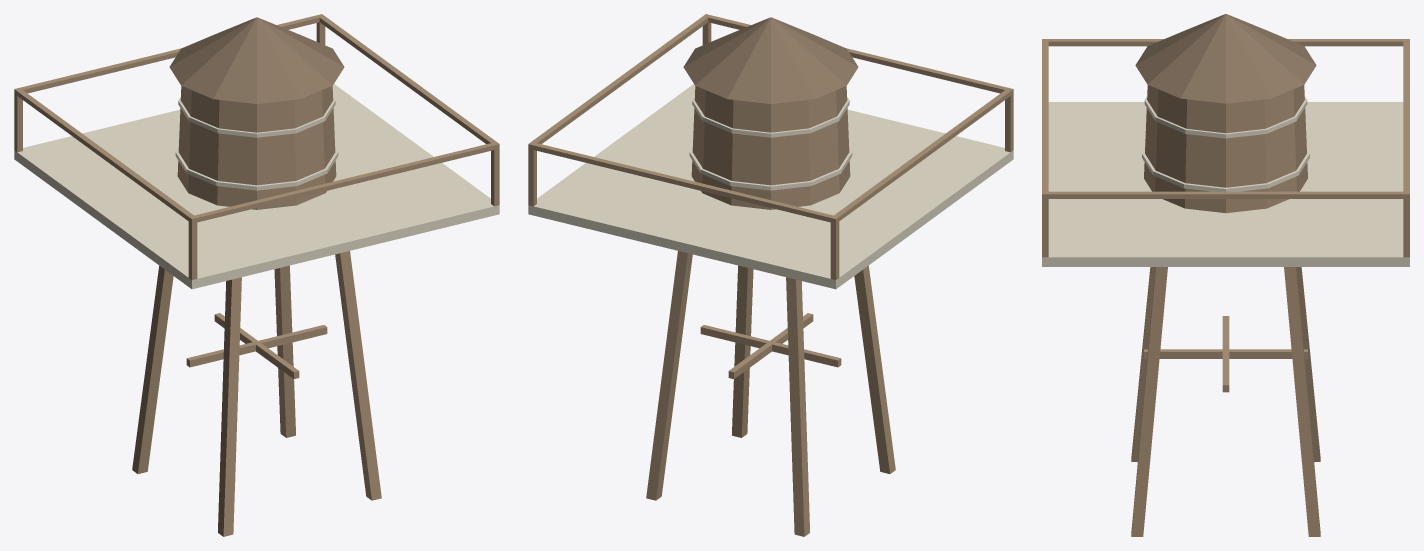
File: WaterTower.glb
The picture shows the model from 3 angles, left to right: view 1: azimuth 30°, elevation 25°; view 2: azimuth 150°, elevation 25°; view 3: azimuth 270°, elevation 25°; orthographic projection. The views are drawn at different scales.
Parts seen in each view (by area): view 1: WaterTower; view 2: WaterTower; view 3: WaterTower.
Part boxes in pixels (x1,y1,x2,y2): WaterTower: (14, 14, 499, 536); WaterTower: (528, 14, 1013, 536); WaterTower: (1042, 14, 1409, 536).
Bounding box in the file's own units: 5.6 × 8.1 × 5.6.
